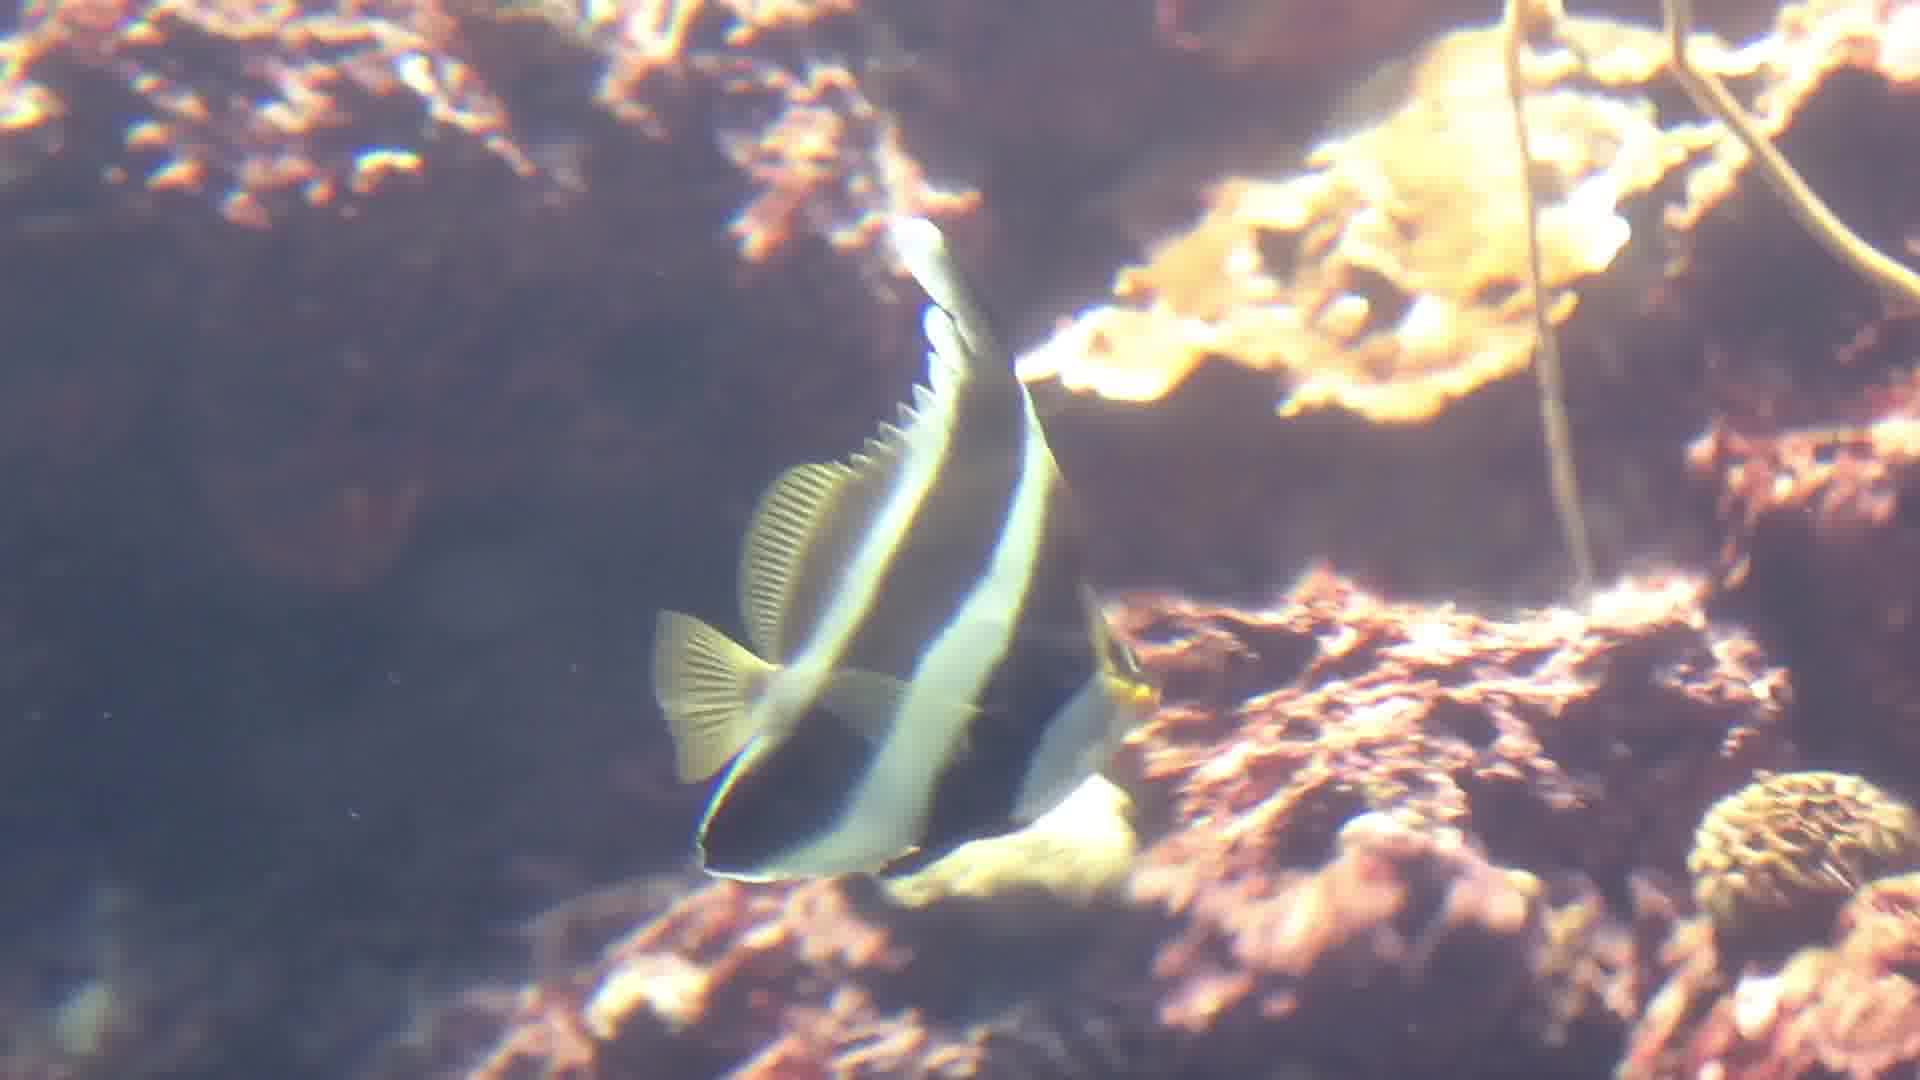Heniochus chrysostomus: (520, 207, 1276, 980)
